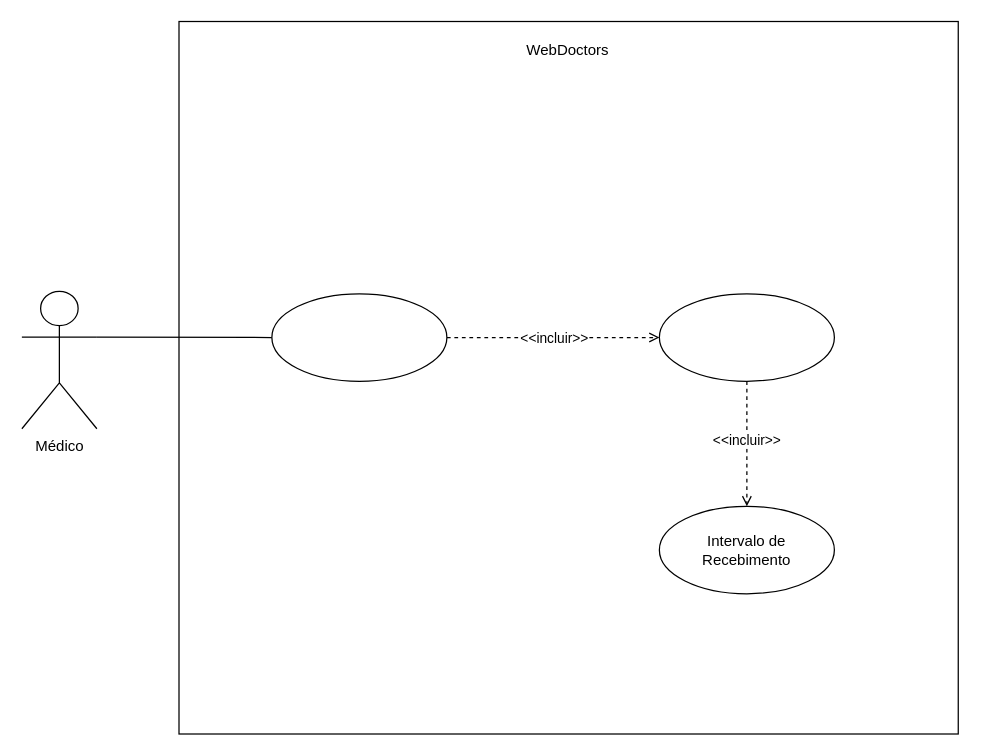
The diagram is 981 pixels wide and 756 high, and some of its shapes have lost their labels. Each missing label, with the centre of its shape:
"Configurações" belongs at (x=359, y=336).
"Receber Lembrete" belongs at (x=746, y=336).
